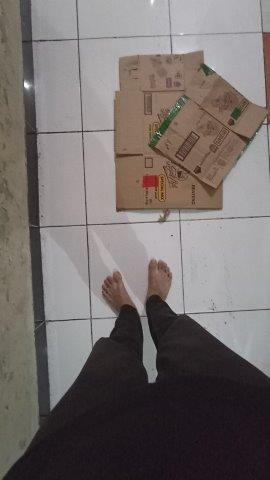kardus: (117, 52, 267, 208)
